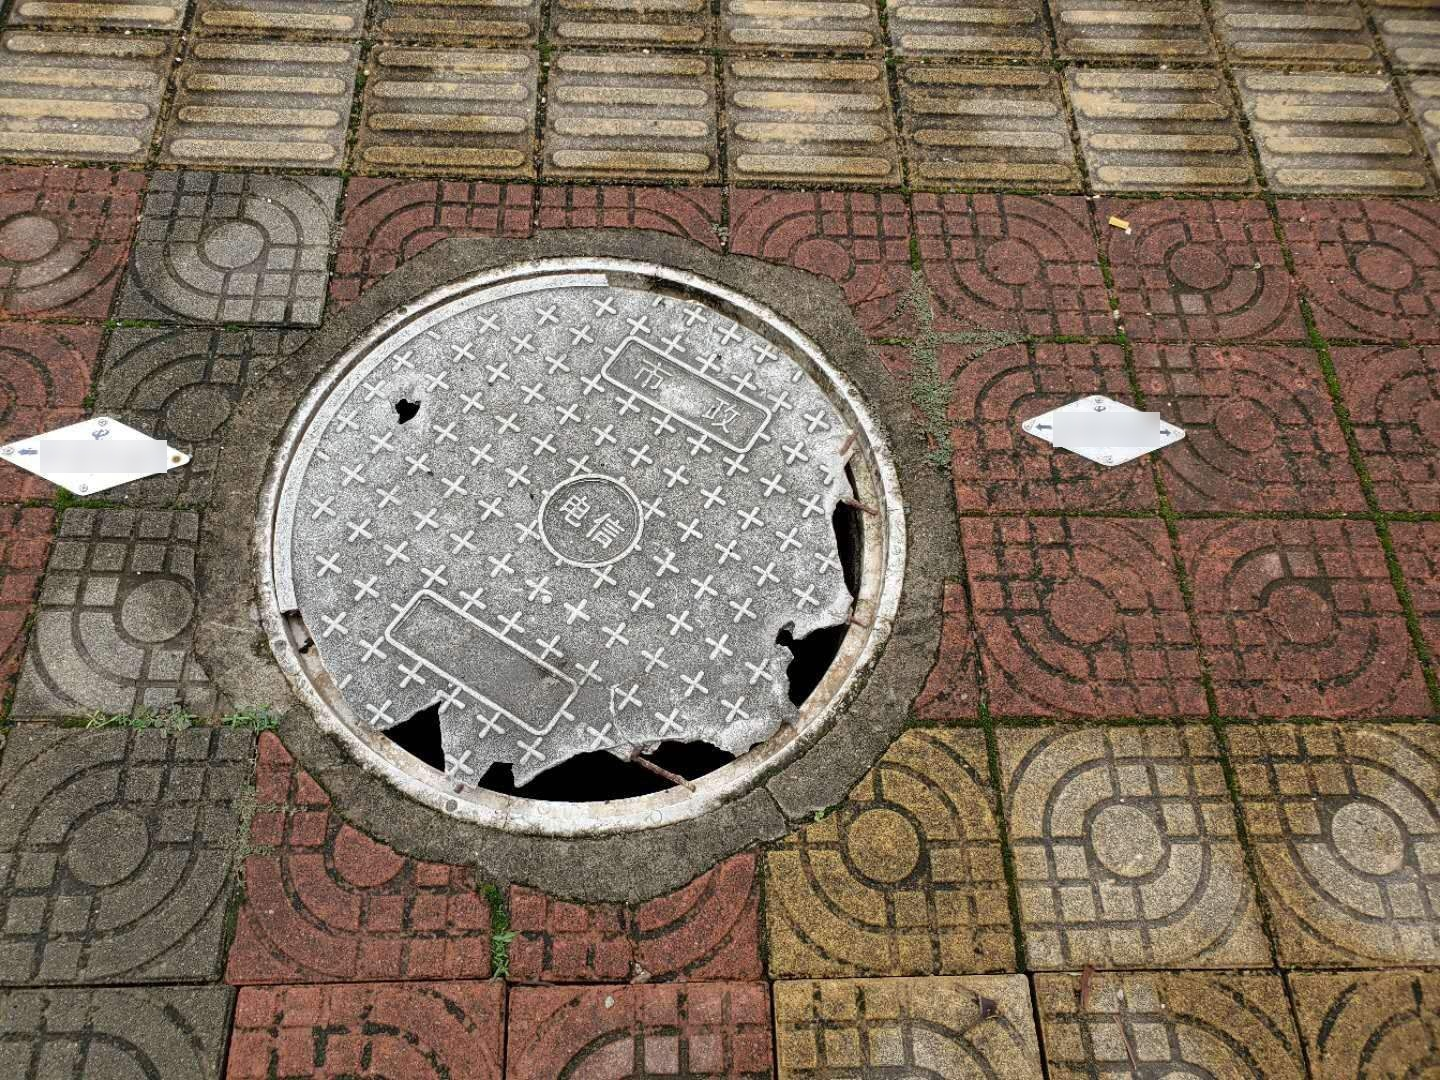broke: (251, 258, 908, 842)
